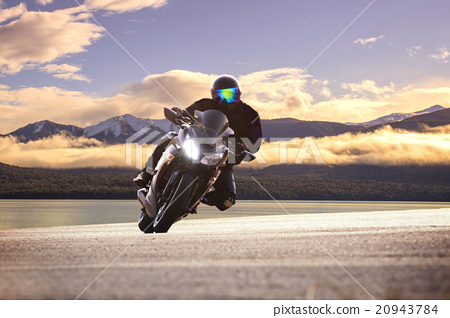helmet: (207, 71, 243, 113)
